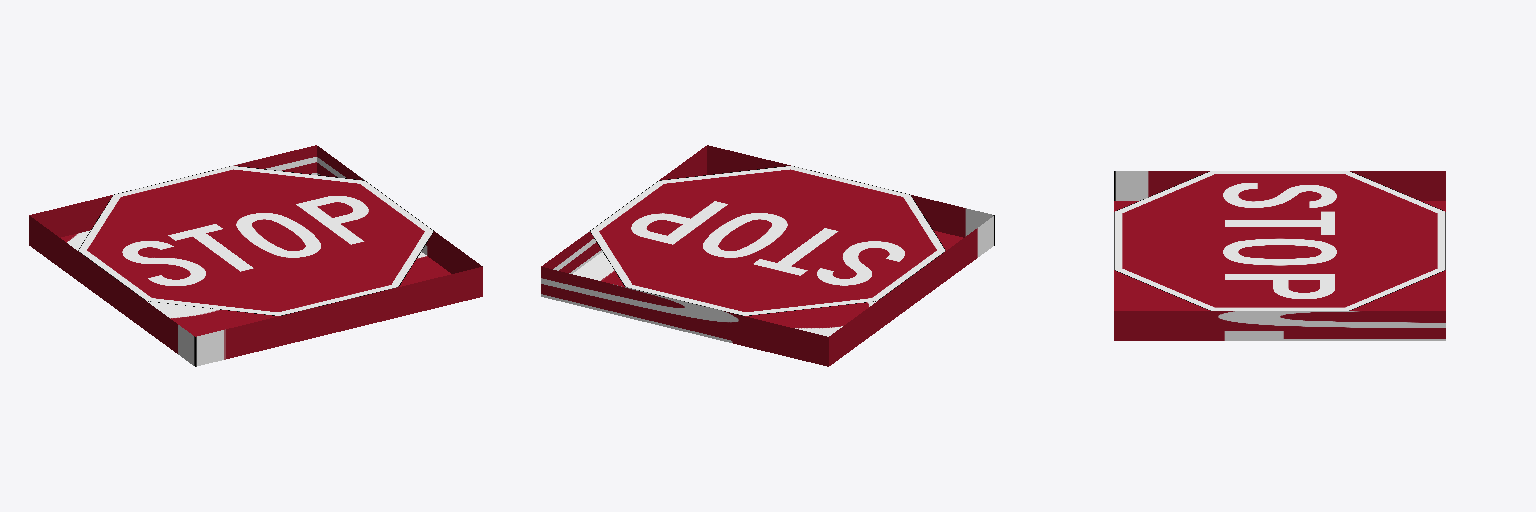
The picture shows the model from 3 angles: view 1: azimuth 30°, elevation 25°; view 2: azimuth 150°, elevation 25°; view 3: azimuth 270°, elevation 25°; orthographic projection.
Parts seen in each view (by area): view 1: Cube; view 2: Cube; view 3: Cube.
Part boxes in pixels (x1,y1,x2,y2): Cube: (29,145,482,366); Cube: (541,145,994,366); Cube: (1114,171,1445,340).
Bounding box in the file's own units: 4 × 0.4 × 4.
1 materials, 1 textured.